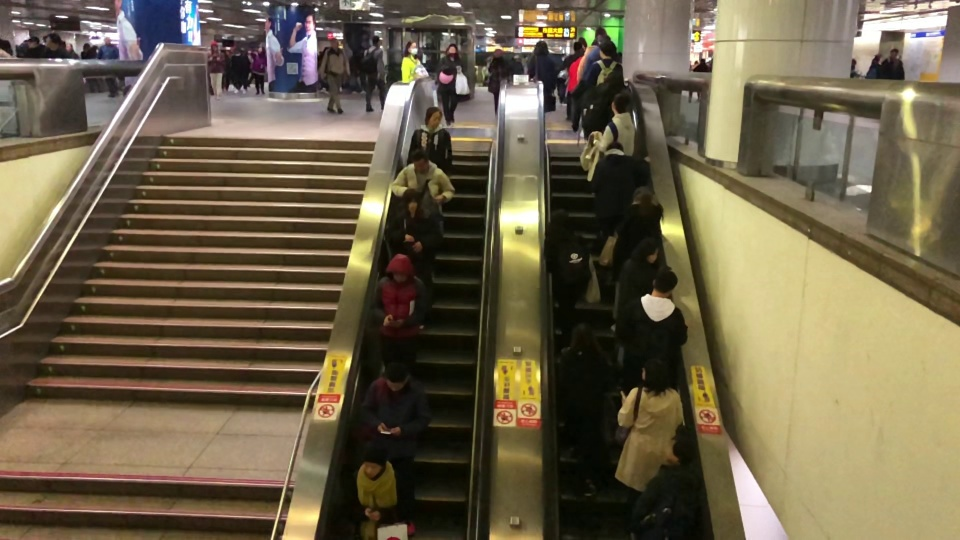person_head: (359, 439, 388, 478), (385, 252, 414, 284), (652, 462, 686, 489), (380, 360, 409, 391), (640, 357, 669, 386), (651, 269, 678, 297), (569, 321, 598, 346), (636, 236, 659, 263), (401, 186, 421, 214), (422, 105, 443, 131), (610, 91, 633, 114), (410, 148, 429, 174), (632, 183, 652, 205), (549, 207, 569, 226), (603, 69, 623, 87), (598, 41, 617, 59), (605, 141, 624, 155), (45, 33, 60, 50), (533, 40, 548, 56), (404, 39, 418, 56), (446, 41, 458, 58), (597, 34, 614, 44), (572, 40, 583, 53), (371, 33, 380, 48), (872, 52, 883, 64), (329, 37, 340, 48), (493, 48, 504, 59), (889, 47, 899, 59), (27, 36, 38, 46), (210, 40, 218, 50), (103, 36, 112, 44), (851, 57, 857, 69), (258, 46, 265, 53), (699, 57, 706, 64)
person_vbox: (358, 359, 434, 539), (560, 320, 617, 498), (612, 357, 682, 495), (390, 148, 456, 282), (609, 183, 664, 335), (384, 187, 441, 329), (370, 253, 432, 369), (343, 439, 412, 540), (543, 207, 593, 346), (622, 269, 689, 371), (614, 237, 659, 368), (630, 461, 700, 540), (592, 141, 650, 236), (407, 105, 454, 180), (582, 70, 625, 141), (592, 91, 637, 156), (317, 37, 351, 114), (437, 41, 462, 128), (359, 32, 385, 113), (587, 41, 624, 89), (561, 41, 583, 120), (527, 40, 558, 96), (581, 32, 614, 79), (487, 46, 509, 116), (96, 36, 119, 98), (400, 39, 429, 85), (207, 39, 226, 101), (250, 46, 267, 96), (880, 47, 905, 81), (692, 57, 710, 101), (45, 34, 71, 59), (865, 52, 883, 79), (24, 37, 41, 57), (850, 56, 862, 79)
